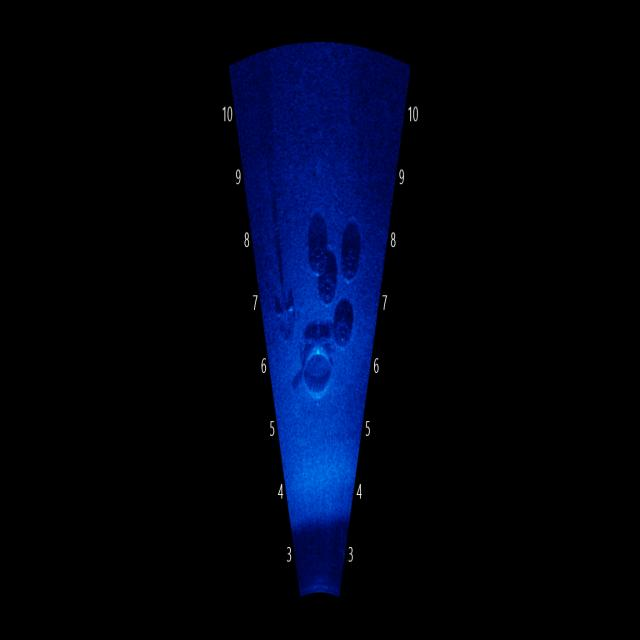circle: (298, 337, 338, 416), (328, 305, 357, 361), (337, 236, 362, 292), (305, 227, 330, 278), (316, 261, 340, 310)
